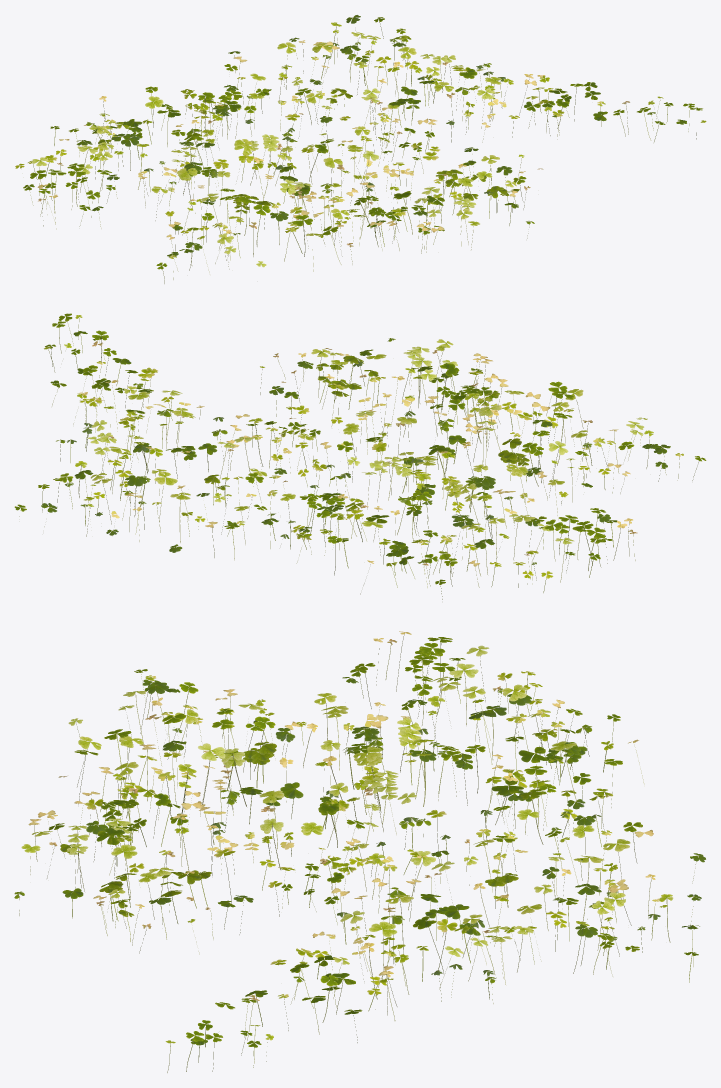
File: p4_var3_LOD0.fbx
3 views of the same model, one above another, from view 1: azimuth 30°, elevation 25°; view 2: azimuth 150°, elevation 25°; view 3: azimuth 270°, elevation 25° (orthographic). The views are drawn at different scales.
Visible parts, largest first — view 1: _4d54_Var3_LOD0.001; view 2: _4d54_Var3_LOD0.001; view 3: _4d54_Var3_LOD0.001.
Boxes of the visible parts, x1,y1,x2,y2 form: _4d54_Var3_LOD0.001: [15, 15, 706, 283]; _4d54_Var3_LOD0.001: [14, 313, 706, 599]; _4d54_Var3_LOD0.001: [14, 631, 705, 1072].
Bounding box in the file's own units: 193 × 14.57 × 140.
